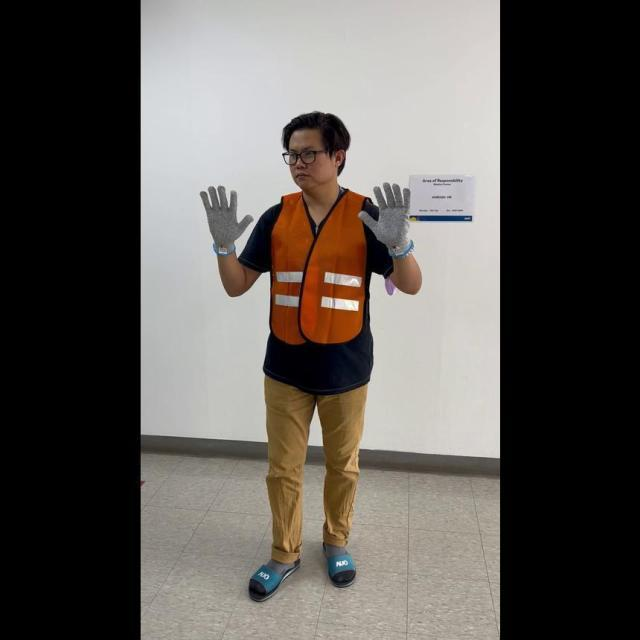gloved_hand: (357, 179, 419, 256), (198, 180, 252, 254)
